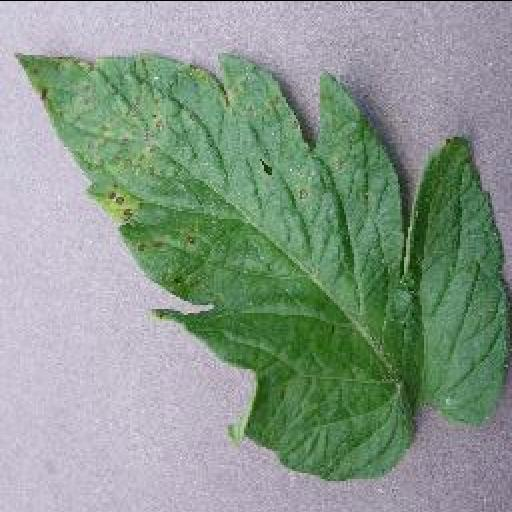disease_tomato: (16, 49, 512, 477)
